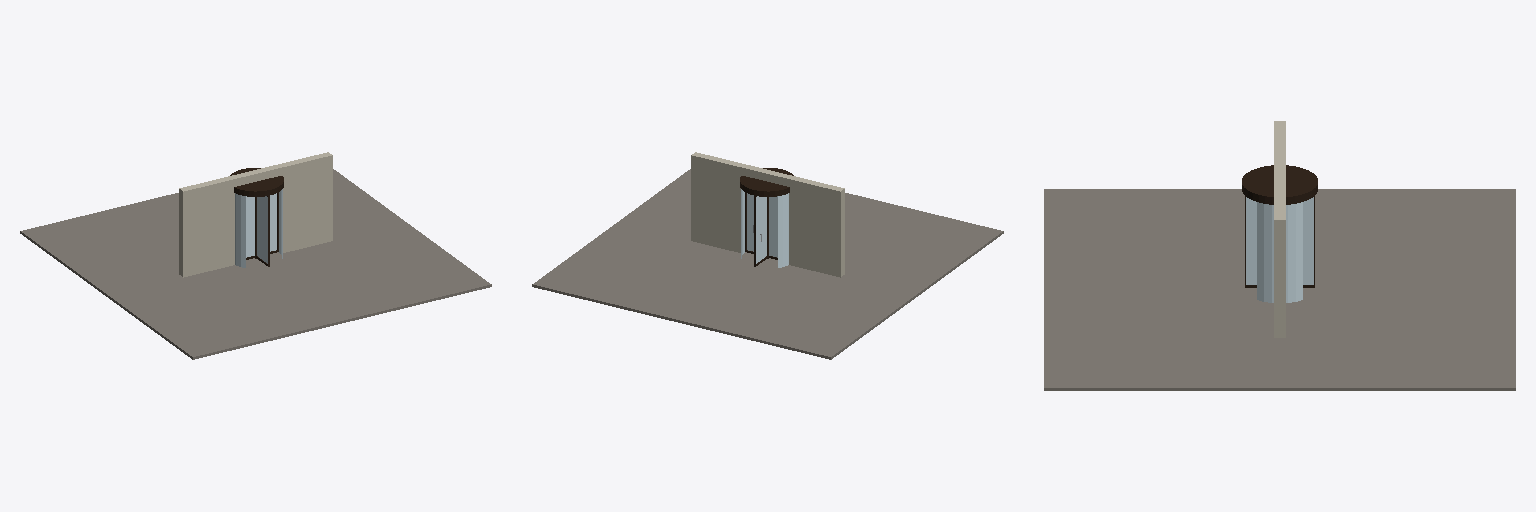
robot.urdf — db0932_revolving_simple:
<?xml version="1.0" ?>
<robot xmlns:doorbench="https://github.com/adamraudonis/DoorBench/schema/urdf-ext" name="db0932_revolving_simple">
  <link name="world_env">
    <visual name="floor_vis">
      <origin xyz="0 0 -0.05" rpy="0 0 0"/>
      <geometry>
        <box size="12 12 0.1"/>
      </geometry>
      <material name="mat_floor"/>
    </visual>
    <collision name="floor_col">
      <origin xyz="0 0 -0.05" rpy="0 0 0"/>
      <geometry>
        <box size="12 12 0.1"/>
      </geometry>
    </collision>
    <visual name="wall_left_vis">
      <origin xyz="-1.975 0 1.65" rpy="0 0 0"/>
      <geometry>
        <box size="2.05 0.3 3.3"/>
      </geometry>
      <material name="mat_wall"/>
    </visual>
    <collision name="wall_left_col">
      <origin xyz="-1.975 0 1.65" rpy="0 0 0"/>
      <geometry>
        <box size="2.05 0.3 3.3"/>
      </geometry>
    </collision>
    <visual name="wall_right_vis">
      <origin xyz="1.975 0 1.65" rpy="0 0 0"/>
      <geometry>
        <box size="2.05 0.3 3.3"/>
      </geometry>
      <material name="mat_wall"/>
    </visual>
    <collision name="wall_right_col">
      <origin xyz="1.975 0 1.65" rpy="0 0 0"/>
      <geometry>
        <box size="2.05 0.3 3.3"/>
      </geometry>
    </collision>
    <visual name="wall_header_vis">
      <origin xyz="0 0 3.15" rpy="0 0 0"/>
      <geometry>
        <box size="1.9 0.3 0.3"/>
      </geometry>
      <material name="mat_wall"/>
    </visual>
    <collision name="wall_header_col">
      <origin xyz="0 0 3.15" rpy="0 0 0"/>
      <geometry>
        <box size="1.9 0.3 0.3"/>
      </geometry>
    </collision>
    <visual name="drum_0_vis">
      <origin xyz="0.914215 0.103007 1.3925" rpy="0 0 1.682996"/>
      <geometry>
        <box size="0.210448 0.012 2.785"/>
      </geometry>
      <material name="mat_drum_glass"/>
    </visual>
    <collision name="drum_0_col">
      <origin xyz="0.914215 0.103007 1.3925" rpy="0 0 1.682996"/>
      <geometry>
        <box size="0.210448 0.012 2.785"/>
      </geometry>
    </collision>
    <visual name="drum_1_vis">
      <origin xyz="0.868373 0.303857 1.3925" rpy="0 0 1.907396"/>
      <geometry>
        <box size="0.210448 0.012 2.785"/>
      </geometry>
      <material name="mat_drum_glass"/>
    </visual>
    <collision name="drum_1_col">
      <origin xyz="0.868373 0.303857 1.3925" rpy="0 0 1.907396"/>
      <geometry>
        <box size="0.210448 0.012 2.785"/>
      </geometry>
    </collision>
    <visual name="drum_2_vis">
      <origin xyz="0.778986 0.48947 1.3925" rpy="0 0 2.131795"/>
      <geometry>
        <box size="0.210448 0.012 2.785"/>
      </geometry>
      <material name="mat_drum_glass"/>
    </visual>
    <collision name="drum_2_col">
      <origin xyz="0.778986 0.48947 1.3925" rpy="0 0 2.131795"/>
      <geometry>
        <box size="0.210448 0.012 2.785"/>
      </geometry>
    </collision>
    <visual name="drum_11_vis">
      <origin xyz="-0.778986 0.48947 1.3925" rpy="0 0 -2.131795"/>
      <geometry>
        <box size="0.210448 0.012 2.785"/>
      </geometry>
      <material name="mat_drum_glass"/>
    </visual>
    <collision name="drum_11_col">
      <origin xyz="-0.778986 0.48947 1.3925" rpy="0 0 -2.131795"/>
      <geometry>
        <box size="0.210448 0.012 2.785"/>
      </geometry>
    </collision>
    <visual name="drum_12_vis">
      <origin xyz="-0.868373 0.303857 1.3925" rpy="0 0 -1.907396"/>
      <geometry>
        <box size="0.210448 0.012 2.785"/>
      </geometry>
      <material name="mat_drum_glass"/>
    </visual>
    <collision name="drum_12_col">
      <origin xyz="-0.868373 0.303857 1.3925" rpy="0 0 -1.907396"/>
      <geometry>
        <box size="0.210448 0.012 2.785"/>
      </geometry>
    </collision>
    <visual name="drum_13_vis">
      <origin xyz="-0.914215 0.103007 1.3925" rpy="0 0 -1.682996"/>
      <geometry>
        <box size="0.210448 0.012 2.785"/>
      </geometry>
      <material name="mat_drum_glass"/>
    </visual>
    <collision name="drum_13_col">
      <origin xyz="-0.914215 0.103007 1.3925" rpy="0 0 -1.682996"/>
      <geometry>
        <box size="0.210448 0.012 2.785"/>
      </geometry>
    </collision>
    <visual name="drum_14_vis">
      <origin xyz="-0.914215 -0.103007 1.3925" rpy="0 0 -1.458597"/>
      <geometry>
        <box size="0.210448 0.012 2.785"/>
      </geometry>
      <material name="mat_drum_glass"/>
    </visual>
    <collision name="drum_14_col">
      <origin xyz="-0.914215 -0.103007 1.3925" rpy="0 0 -1.458597"/>
      <geometry>
        <box size="0.210448 0.012 2.785"/>
      </geometry>
    </collision>
    <visual name="drum_15_vis">
      <origin xyz="-0.868373 -0.303857 1.3925" rpy="0 0 -1.234197"/>
      <geometry>
        <box size="0.210448 0.012 2.785"/>
      </geometry>
      <material name="mat_drum_glass"/>
    </visual>
    <collision name="drum_15_col">
      <origin xyz="-0.868373 -0.303857 1.3925" rpy="0 0 -1.234197"/>
      <geometry>
        <box size="0.210448 0.012 2.785"/>
      </geometry>
    </collision>
    <visual name="drum_16_vis">
      <origin xyz="-0.778986 -0.48947 1.3925" rpy="0 0 -1.009798"/>
      <geometry>
        <box size="0.210448 0.012 2.785"/>
      </geometry>
      <material name="mat_drum_glass"/>
    </visual>
    <collision name="drum_16_col">
      <origin xyz="-0.778986 -0.48947 1.3925" rpy="0 0 -1.009798"/>
      <geometry>
        <box size="0.210448 0.012 2.785"/>
      </geometry>
    </collision>
    <visual name="drum_25_vis">
      <origin xyz="0.778986 -0.48947 1.3925" rpy="0 0 1.009798"/>
      <geometry>
        <box size="0.210448 0.012 2.785"/>
      </geometry>
      <material name="mat_drum_glass"/>
    </visual>
    <collision name="drum_25_col">
      <origin xyz="0.778986 -0.48947 1.3925" rpy="0 0 1.009798"/>
      <geometry>
        <box size="0.210448 0.012 2.785"/>
      </geometry>
    </collision>
    <visual name="drum_26_vis">
      <origin xyz="0.868373 -0.303857 1.3925" rpy="0 0 1.234197"/>
      <geometry>
        <box size="0.210448 0.012 2.785"/>
      </geometry>
      <material name="mat_drum_glass"/>
    </visual>
    <collision name="drum_26_col">
      <origin xyz="0.868373 -0.303857 1.3925" rpy="0 0 1.234197"/>
      <geometry>
        <box size="0.210448 0.012 2.785"/>
      </geometry>
    </collision>
    <visual name="drum_27_vis">
      <origin xyz="0.914215 -0.103007 1.3925" rpy="0 0 1.458597"/>
      <geometry>
        <box size="0.210448 0.012 2.785"/>
      </geometry>
      <material name="mat_drum_glass"/>
    </visual>
    <collision name="drum_27_col">
      <origin xyz="0.914215 -0.103007 1.3925" rpy="0 0 1.458597"/>
      <geometry>
        <box size="0.210448 0.012 2.785"/>
      </geometry>
    </collision>
    <visual name="drum_canopy_vis">
      <origin xyz="0 0 2.8925" rpy="0 0 0"/>
      <geometry>
        <cylinder radius="0.98" length="0.215"/>
      </geometry>
      <material name="mat_frame"/>
    </visual>
    <collision name="drum_canopy_col">
      <origin xyz="0 0 2.8925" rpy="0 0 0"/>
      <geometry>
        <cylinder radius="0.98" length="0.215"/>
      </geometry>
    </collision>
    <visual name="rotor_top_bearing_vis">
      <origin xyz="0 0 2.782" rpy="0 0 0"/>
      <geometry>
        <cylinder radius="0.075" length="0.006"/>
      </geometry>
      <material name="mat_frame"/>
    </visual>
    <collision name="rotor_top_bearing_col">
      <origin xyz="0 0 2.782" rpy="0 0 0"/>
      <geometry>
        <cylinder radius="0.075" length="0.006"/>
      </geometry>
    </collision>
    <visual name="rotor_floor_pivot_vis">
      <origin xyz="0 0 0.009" rpy="0 0 0"/>
      <geometry>
        <cylinder radius="0.075" length="0.006"/>
      </geometry>
      <material name="mat_frame"/>
    </visual>
    <collision name="rotor_floor_pivot_col">
      <origin xyz="0 0 0.009" rpy="0 0 0"/>
      <geometry>
        <cylinder radius="0.075" length="0.006"/>
      </geometry>
    </collision>
  </link>
  <link name="rotor">
    <inertial>
      <origin xyz="0 0 1.393196" rpy="0 0 0"/>
      <mass value="237.85"/>
      <inertia ixx="224.655572845" ixy="0" ixz="0" iyy="224.655572845" iyz="0" izz="69.014812954"/>
    </inertial>
    <visual name="rotor_shaft_vis">
      <origin xyz="0 0 1.395" rpy="0 0 0"/>
      <geometry>
        <cylinder radius="0.06" length="2.75"/>
      </geometry>
      <material name="mat_frame"/>
    </visual>
    <collision name="rotor_shaft_col">
      <origin xyz="0 0 1.395" rpy="0 0 0"/>
      <geometry>
        <cylinder radius="0.06" length="2.75"/>
      </geometry>
    </collision>
    <visual name="rotor_pintle_b_vis">
      <origin xyz="0 0 0.016" rpy="0 0 0"/>
      <geometry>
        <cylinder radius="0.03" length="0.016"/>
      </geometry>
      <material name="mat_frame"/>
    </visual>
    <visual name="rotor_pintle_t_vis">
      <origin xyz="0 0 2.7745" rpy="0 0 0"/>
      <geometry>
        <cylinder radius="0.03" length="0.017"/>
      </geometry>
      <material name="mat_frame"/>
    </visual>
    <visual name="wing_0_glass_vis">
      <origin xyz="0.45 0 1.4" rpy="0 0 0"/>
      <geometry>
        <box size="0.86 0.01 2.6"/>
      </geometry>
      <material name="mat_drum_glass"/>
    </visual>
    <collision name="wing_0_glass_col">
      <origin xyz="0.45 0 1.4" rpy="0 0 0"/>
      <geometry>
        <box size="0.86 0.01 2.6"/>
      </geometry>
    </collision>
    <visual name="wing_0_stile_vis">
      <origin xyz="0.88 0 1.395" rpy="0 0 0"/>
      <geometry>
        <box size="0.04 0.06 2.75"/>
      </geometry>
      <material name="mat_frame"/>
    </visual>
    <collision name="wing_0_stile_col">
      <origin xyz="0.88 0 1.395" rpy="0 0 0"/>
      <geometry>
        <box size="0.04 0.06 2.75"/>
      </geometry>
    </collision>
    <visual name="wing_0_rail_b_vis">
      <origin xyz="0.43 0 0.06" rpy="0 0 0"/>
      <geometry>
        <box size="0.86 0.06 0.08"/>
      </geometry>
      <material name="mat_frame"/>
    </visual>
    <collision name="wing_0_rail_b_col">
      <origin xyz="0.43 0 0.06" rpy="0 0 0"/>
      <geometry>
        <box size="0.86 0.06 0.08"/>
      </geometry>
    </collision>
    <visual name="wing_0_rail_t_vis">
      <origin xyz="0.43 0 2.73" rpy="0 0 0"/>
      <geometry>
        <box size="0.86 0.06 0.08"/>
      </geometry>
      <material name="mat_frame"/>
    </visual>
    <collision name="wing_0_rail_t_col">
      <origin xyz="0.43 0 2.73" rpy="0 0 0"/>
      <geometry>
        <box size="0.86 0.06 0.08"/>
      </geometry>
    </collision>
    <visual name="wing_0_bar_vis">
      <origin xyz="0.54 0.055 1" rpy="0 0 0"/>
      <geometry>
        <cylinder radius="0.012" length="0.3"/>
      </geometry>
      <material name="mat_op_stainless"/>
    </visual>
    <collision name="wing_0_bar_col">
      <origin xyz="0.54 0.055 1" rpy="0 0 0"/>
      <geometry>
        <cylinder radius="0.012" length="0.3"/>
      </geometry>
    </collision>
    <visual name="wing_0_bar_stud_d_vis">
      <origin xyz="0.54 0.031 0.88" rpy="-1.570796 0 0"/>
      <geometry>
        <cylinder radius="0.009" length="0.056"/>
      </geometry>
      <material name="mat_op_stainless"/>
    </visual>
    <visual name="wing_0_bar_stud_u_vis">
      <origin xyz="0.54 0.031 1.12" rpy="-1.570796 0 0"/>
      <geometry>
        <cylinder radius="0.009" length="0.056"/>
      </geometry>
      <material name="mat_op_stainless"/>
    </visual>
    <visual name="wing_1_glass_vis">
      <origin xyz="0 0.45 1.4" rpy="0 0 1.570796"/>
      <geometry>
        <box size="0.86 0.01 2.6"/>
      </geometry>
      <material name="mat_drum_glass"/>
    </visual>
    <collision name="wing_1_glass_col">
      <origin xyz="0 0.45 1.4" rpy="0 0 1.570796"/>
      <geometry>
        <box size="0.86 0.01 2.6"/>
      </geometry>
    </collision>
    <visual name="wing_1_stile_vis">
      <origin xyz="0 0.88 1.395" rpy="0 0 1.570796"/>
      <geometry>
        <box size="0.04 0.06 2.75"/>
      </geometry>
      <material name="mat_frame"/>
    </visual>
    <collision name="wing_1_stile_col">
      <origin xyz="0 0.88 1.395" rpy="0 0 1.570796"/>
      <geometry>
        <box size="0.04 0.06 2.75"/>
      </geometry>
    </collision>
    <visual name="wing_1_rail_b_vis">
      <origin xyz="0 0.43 0.06" rpy="0 0 1.570796"/>
      <geometry>
        <box size="0.86 0.06 0.08"/>
      </geometry>
      <material name="mat_frame"/>
    </visual>
    <collision name="wing_1_rail_b_col">
      <origin xyz="0 0.43 0.06" rpy="0 0 1.570796"/>
      <geometry>
        <box size="0.86 0.06 0.08"/>
      </geometry>
    </collision>
    <visual name="wing_1_rail_t_vis">
      <origin xyz="0 0.43 2.73" rpy="0 0 1.570796"/>
      <geometry>
        <box size="0.86 0.06 0.08"/>
      </geometry>
      <material name="mat_frame"/>
    </visual>
    <collision name="wing_1_rail_t_col">
      <origin xyz="0 0.43 2.73" rpy="0 0 1.570796"/>
      <geometry>
        <box size="0.86 0.06 0.08"/>
      </geometry>
    </collision>
    <visual name="wing_1_bar_vis">
      <origin xyz="-0.055 0.54 1" rpy="0 0 0"/>
      <geometry>
        <cylinder radius="0.012" length="0.3"/>
      </geometry>
      <material name="mat_op_stainless"/>
    </visual>
    <collision name="wing_1_bar_col">
      <origin xyz="-0.055 0.54 1" rpy="0 0 0"/>
      <geometry>
        <cylinder radius="0.012" length="0.3"/>
      </geometry>
    </collision>
    <visual name="wing_1_bar_stud_d_vis">
      <origin xyz="-0.031 0.54 0.88" rpy="-0.269078 -1.570796 0.269078"/>
      <geometry>
        <cylinder radius="0.009" length="0.056"/>
      </geometry>
      <material name="mat_op_stainless"/>
    </visual>
    <visual name="wing_1_bar_stud_u_vis">
      <origin xyz="-0.031 0.54 1.12" rpy="-0.269078 -1.570796 0.269078"/>
      <geometry>
        <cylinder radius="0.009" length="0.056"/>
      </geometry>
      <material name="mat_op_stainless"/>
    </visual>
    <visual name="wing_2_glass_vis">
      <origin xyz="-0.45 0 1.4" rpy="0 0 3.141593"/>
      <geometry>
        <box size="0.86 0.01 2.6"/>
      </geometry>
      <material name="mat_drum_glass"/>
    </visual>
    <collision name="wing_2_glass_col">
      <origin xyz="-0.45 0 1.4" rpy="0 0 3.141593"/>
      <geometry>
        <box size="0.86 0.01 2.6"/>
      </geometry>
    </collision>
    <visual name="wing_2_stile_vis">
      <origin xyz="-0.88 0 1.395" rpy="0 0 3.141593"/>
      <geometry>
        <box size="0.04 0.06 2.75"/>
      </geometry>
      <material name="mat_frame"/>
    </visual>
    <collision name="wing_2_stile_col">
      <origin xyz="-0.88 0 1.395" rpy="0 0 3.141593"/>
      <geometry>
        <box size="0.04 0.06 2.75"/>
      </geometry>
    </collision>
    <visual name="wing_2_rail_b_vis">
      <origin xyz="-0.43 0 0.06" rpy="0 0 3.141593"/>
      <geometry>
        <box size="0.86 0.06 0.08"/>
      </geometry>
      <material name="mat_frame"/>
    </visual>
    <collision name="wing_2_rail_b_col">
      <origin xyz="-0.43 0 0.06" rpy="0 0 3.141593"/>
      <geometry>
        <box size="0.86 0.06 0.08"/>
      </geometry>
    </collision>
    <visual name="wing_2_rail_t_vis">
      <origin xyz="-0.43 0 2.73" rpy="0 0 3.141593"/>
      <geometry>
        <box size="0.86 0.06 0.08"/>
      </geometry>
      <material name="mat_frame"/>
    </visual>
    <collision name="wing_2_rail_t_col">
      <origin xyz="-0.43 0 2.73" rpy="0 0 3.141593"/>
      <geometry>
        <box size="0.86 0.06 0.08"/>
      </geometry>
    </collision>
    <visual name="wing_2_bar_vis">
      <origin xyz="-0.54 -0.055 1" rpy="0 0 0"/>
      <geometry>
        <cylinder radius="0.012" length="0.3"/>
      </geometry>
      <material name="mat_op_stainless"/>
    </visual>
    <collision name="wing_2_bar_col">
      <origin xyz="-0.54 -0.055 1" rpy="0 0 0"/>
      <geometry>
        <cylinder radius="0.012" length="0.3"/>
      </geometry>
    </collision>
    <visual name="wing_2_bar_stud_d_vis">
      <origin xyz="-0.54 -0.031 0.88" rpy="1.570796 0 0"/>
      <geometry>
        <cylinder radius="0.009" length="0.056"/>
      </geometry>
      <material name="mat_op_stainless"/>
    </visual>
    <visual name="wing_2_bar_stud_u_vis">
      <origin xyz="-0.54 -0.031 1.12" rpy="1.570796 0 0"/>
      <geometry>
        <cylinder radius="0.009" length="0.056"/>
      </geometry>
      <material name="mat_op_stainless"/>
    </visual>
    <visual name="wing_3_glass_vis">
      <origin xyz="0 -0.45 1.4" rpy="0 0 -1.570796"/>
      <geometry>
        <box size="0.86 0.01 2.6"/>
      </geometry>
      <material name="mat_drum_glass"/>
    </visual>
    <collision name="wing_3_glass_col">
      <origin xyz="0 -0.45 1.4" rpy="0 0 -1.570796"/>
      <geometry>
        <box size="0.86 0.01 2.6"/>
      </geometry>
    </collision>
    <visual name="wing_3_stile_vis">
      <origin xyz="0 -0.88 1.395" rpy="0 0 -1.570796"/>
      <geometry>
        <box size="0.04 0.06 2.75"/>
      </geometry>
      <material name="mat_frame"/>
    </visual>
    <collision name="wing_3_stile_col">
      <origin xyz="0 -0.88 1.395" rpy="0 0 -1.570796"/>
      <geometry>
        <box size="0.04 0.06 2.75"/>
      </geometry>
    </collision>
    <visual name="wing_3_rail_b_vis">
      <origin xyz="0 -0.43 0.06" rpy="0 0 -1.570796"/>
      <geometry>
        <box size="0.86 0.06 0.08"/>
      </geometry>
      <material name="mat_frame"/>
    </visual>
    <collision name="wing_3_rail_b_col">
      <origin xyz="0 -0.43 0.06" rpy="0 0 -1.570796"/>
      <geometry>
        <box size="0.86 0.06 0.08"/>
      </geometry>
    </collision>
    <visual name="wing_3_rail_t_vis">
      <origin xyz="0 -0.43 2.73" rpy="0 0 -1.570796"/>
      <geometry>
        <box size="0.86 0.06 0.08"/>
      </geometry>
      <material name="mat_frame"/>
    </visual>
    <collision name="wing_3_rail_t_col">
      <origin xyz="0 -0.43 2.73" rpy="0 0 -1.570796"/>
      <geometry>
        <box size="0.86 0.06 0.08"/>
      </geometry>
    </collision>
    <visual name="wing_3_bar_vis">
      <origin xyz="0.055 -0.54 1" rpy="0 0 0"/>
      <geometry>
        <cylinder radius="0.012" length="0.3"/>
      </geometry>
      <material name="mat_op_stainless"/>
    </visual>
    <collision name="wing_3_bar_col">
      <origin xyz="0.055 -0.54 1" rpy="0 0 0"/>
      <geometry>
        <cylinder radius="0.012" length="0.3"/>
      </geometry>
    </collision>
    <visual name="wing_3_bar_stud_d_vis">
      <origin xyz="0.031 -0.54 0.88" rpy="0.691166 1.570796 0.691166"/>
      <geometry>
        <cylinder radius="0.009" length="0.056"/>
      </geometry>
      <material name="mat_op_stainless"/>
    </visual>
    <visual name="wing_3_bar_stud_u_vis">
      <origin xyz="0.031 -0.54 1.12" rpy="0.691166 1.570796 0.691166"/>
      <geometry>
        <cylinder radius="0.009" length="0.056"/>
      </geometry>
      <material name="mat_op_stainless"/>
    </visual>
  </link>
  <joint name="rotor_hinge" type="continuous">
    <origin xyz="0 0 0" rpy="0 0 0"/>
    <parent link="world_env"/>
    <child link="rotor"/>
    <axis xyz="0 0 1"/>
    <dynamics damping="31" friction="4.916753"/>
  </joint>
  <material name="mat_drum_glass">
    <color rgba="0.85 0.92 0.95 0.25"/>
  </material>
  <material name="mat_floor">
    <color rgba="0.55 0.53 0.5 1"/>
  </material>
  <material name="mat_frame">
    <color rgba="0.22 0.17 0.13 1"/>
  </material>
  <material name="mat_op_stainless">
    <color rgba="0.75 0.76 0.77 1"/>
  </material>
  <material name="mat_wall">
    <color rgba="0.78 0.76 0.7 1"/>
  </material>
</robot>

--- What the picture shows (computed from the rendered views, not written in the file) ---
Views: 3 orthographic renders of the robot side by side, from view 1: azimuth 30°, elevation 25°; view 2: azimuth 150°, elevation 25°; view 3: azimuth 270°, elevation 25°.
Robot: db0932_revolving_simple — 2 links, 1 joints (1 continuous); root link world_env; default pose: all joints at 0.
Links seen in each view (by area): view 1: world_env, rotor; view 2: world_env, rotor; view 3: world_env, rotor.
Link boxes in pixels (box(x1,y1,x2,y2)): world_env: box(20, 152, 491, 359); rotor: box(246, 192, 278, 266); world_env: box(532, 152, 1003, 359); rotor: box(745, 192, 777, 266); world_env: box(1044, 121, 1515, 390); rotor: box(1245, 196, 1314, 287).
Size in the robot's own frame: 12 by 12 by 3.4 metres.
Geometry: primitives only (box / cylinder / sphere), no mesh files.
